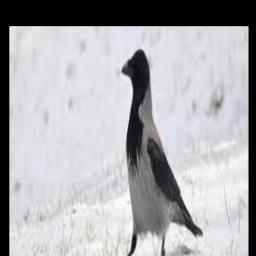Crow: (121, 47, 204, 256)
